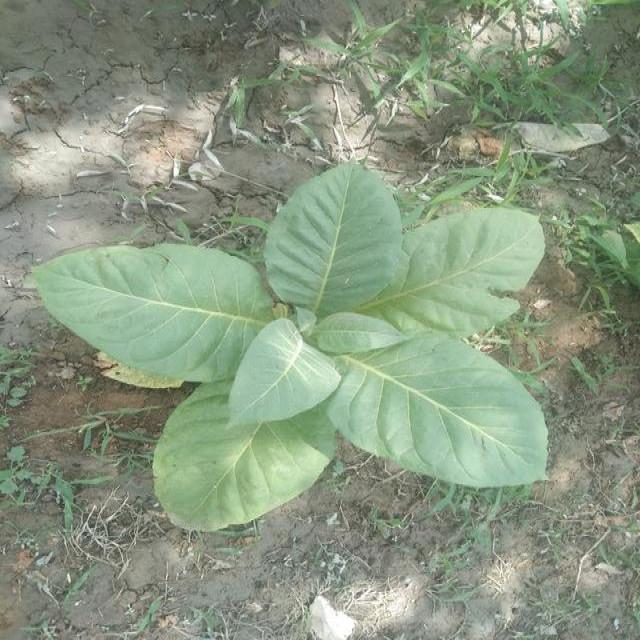crop: (38, 162, 548, 550)
